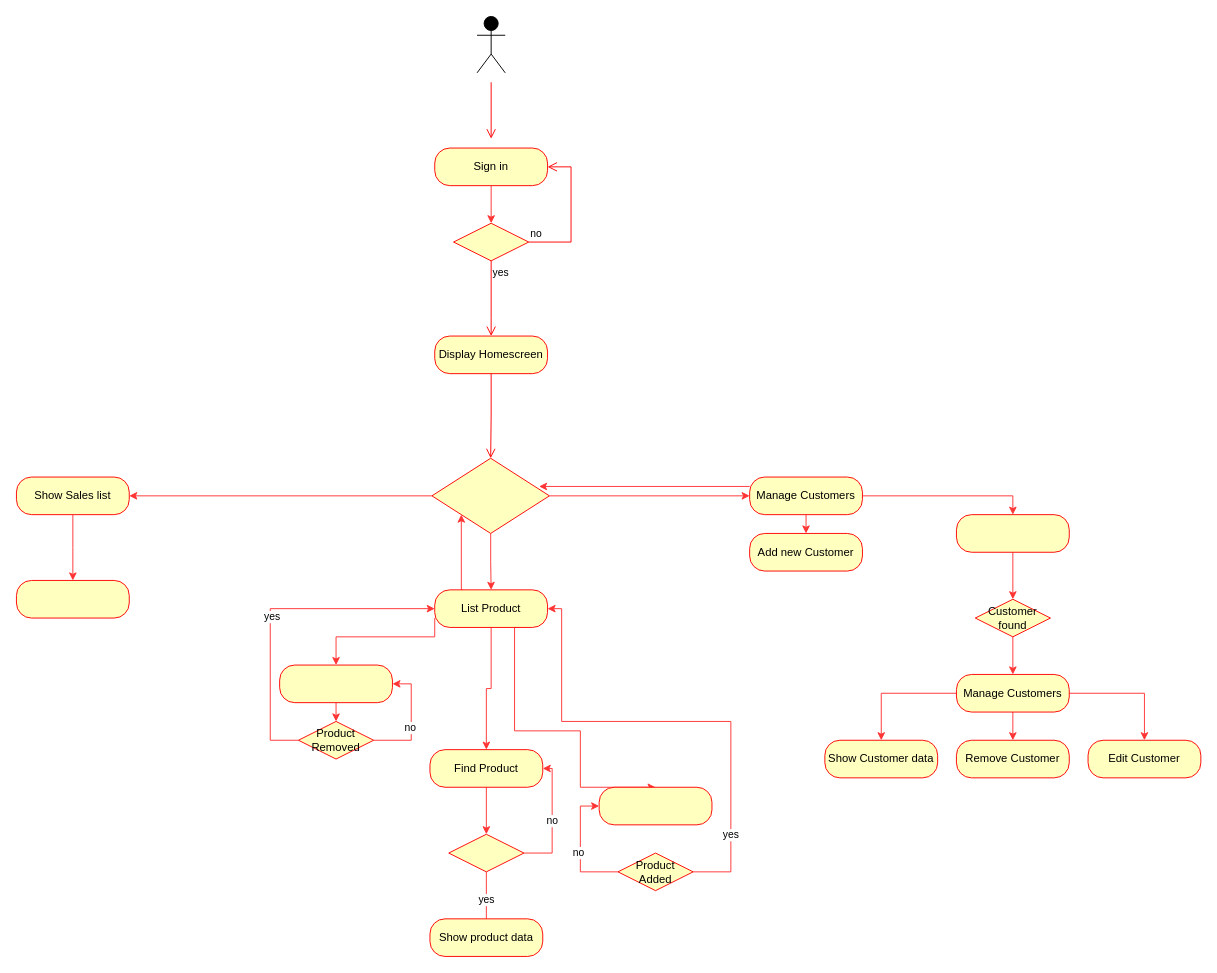
Some shapes in this 1217 by 973 pixel diagram are drawn without their labels. Here are the shapes that lost their labels. From the top down, the centre of each, then its label:
At point (490, 44): "Actor".
At point (491, 241): "Sign in Successful".
At point (490, 495): "Click navbar Buttons".
At point (1012, 533): "Find Customer".
At point (72, 599): "Show Sales list data".
At point (335, 683): "Remove product".
At point (655, 805): "Add product".
At point (486, 852): "Product found".
